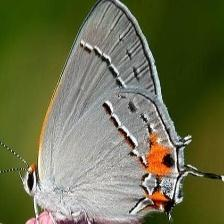butterfly: (22, 0, 224, 224)
